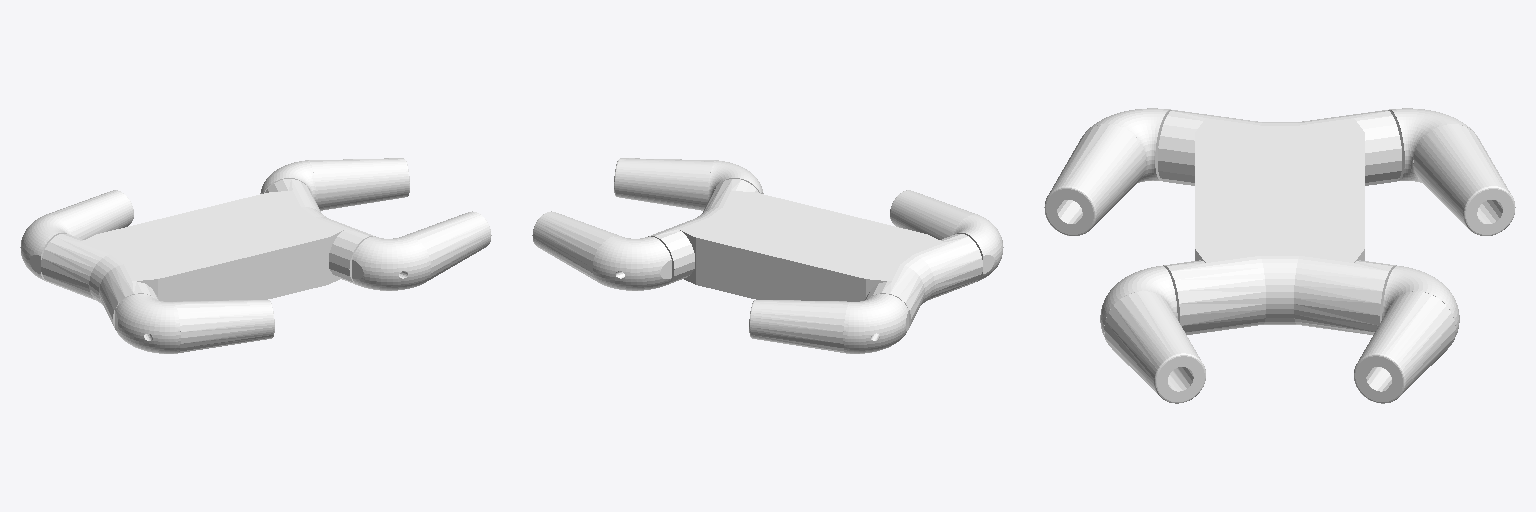
The robot description file, URDF, robot "18_degree":
<?xml version="1.0" encoding="utf-8"?>
<!-- This URDF was automatically created by SolidWorks to URDF Exporter! Originally created by [author] ([email redacted]) 
     Commit Version: 1.5.1-0-g916b5db  Build Version: 1.5.7152.31018
     For more information, please see http://wiki.ros.org/sw_urdf_exporter -->
<robot
  name="18_degree">
  <link
    name="base_link">
    <inertial>
      <origin
        xyz="0 4.0369E-08 -4.2712E-09"
        rpy="0 0 0" />
      <mass
        value="2.942" />
      <inertia
        ixx="0.0098730"
        ixy="-7.5263E-11"
        ixz="-1.5413E-10"
        iyy="0.0445906"
        iyz="7.6596E-20"
        izz="0.05202581" />
    </inertial>
    <visual>
      <origin
        xyz="0 0 0"
        rpy="0 0 0" />
      <geometry>
        <mesh
          filename="package://18_degree/meshes/base_link.STL" />
      </geometry>
      <material
        name="">
        <color
          rgba="1 1 1 1" />
      </material>
    </visual>
    <collision>
      <origin
        xyz="0 0 0"
        rpy="0 0 0" />
      <geometry>
        <mesh
          filename="package://18_degree/meshes/base_link.STL" />
      </geometry>
    </collision>
  </link>
  <link
    name="left_front_link">
    <inertial>
      <origin
        xyz="-1.0036E-07 0.056833 -0.03601"
        rpy="0 0 0" />
      <mass
        value="0.092" />
      <inertia
        ixx="0.0002604"
        ixy="7.2573E-10"
        ixz="7.3329E-10"
        iyy="0.0000526"
        iyz="2.27E-05"
        izz="0.0002575" />
    </inertial>
    <visual>
      <origin
        xyz="0 0 0"
        rpy="0 0 0" />
      <geometry>
        <mesh
          filename="package://18_degree/meshes/left_front_link.STL" />
      </geometry>
      <material
        name="">
        <color
          rgba="1 1 1 1" />
      </material>
    </visual>
    <collision>
      <origin
        xyz="0 0 0"
        rpy="0 0 0" />
      <geometry>
        <mesh
          filename="package://18_degree/meshes/left_front_link.STL" />
      </geometry>
    </collision>
  </link>
  <joint
    name="left_front_leg"
    type="continuous">
    <origin
      xyz="0.16183 0.097959 0"
      rpy="1.885 1.5708 0" />
    <parent
      link="base_link" />
    <child
      link="left_front_link" />
    <axis
      xyz="0 0 -1" />
    <limit
      effort="5"
      velocity="487" />
  </joint>
  <link
    name="right_front_link">
    <inertial>
      <origin
        xyz="1.0036E-07 0.056833 0.03601"
        rpy="0 0 0" />
      <mass
        value="0.092" />
      <inertia
        ixx="0.0002604"
        ixy="-7.2573E-10"
        ixz="7.3329E-10"
        iyy="0.0000526"
        iyz="-2.27E-05"
        izz="0.0002575" />
    </inertial>
    <visual>
      <origin
        xyz="0 0 0"
        rpy="0 0 0" />
      <geometry>
        <mesh
          filename="package://18_degree/meshes/right_front_link.STL" />
      </geometry>
      <material
        name="">
        <color
          rgba="1 1 1 1" />
      </material>
    </visual>
    <collision>
      <origin
        xyz="0 0 0"
        rpy="0 0 0" />
      <geometry>
        <mesh
          filename="package://18_degree/meshes/right_front_link.STL" />
      </geometry>
    </collision>
  </link>
  <joint
    name="right_front_leg"
    type="continuous">
    <origin
      xyz="0.16183 -0.097959 0"
      rpy="1.2566 1.5708 0" />
    <parent
      link="base_link" />
    <child
      link="right_front_link" />
    <axis
      xyz="0 0 1" />
    <limit
      effort="5"
      velocity="487" />
  </joint>
  <link
    name="right_back_link">
    <inertial>
      <origin
        xyz="7.08E-08 0.056834 0.03601"
        rpy="0 0 0" />
      <mass
        value="0.092" />
      <inertia
        ixx="0.0002604"
        ixy="-5.3496E-10"
        ixz="2.4137E-10"
        iyy="0.0000526"
        iyz="-2.27E-05"
        izz="0.0002575" />
    </inertial>
    <visual>
      <origin
        xyz="0 0 0"
        rpy="0 0 0" />
      <geometry>
        <mesh
          filename="package://18_degree/meshes/right_back_link.STL" />
      </geometry>
      <material
        name="">
        <color
          rgba="1 1 1 1" />
      </material>
    </visual>
    <collision>
      <origin
        xyz="0 0 0"
        rpy="0 0 0" />
      <geometry>
        <mesh
          filename="package://18_degree/meshes/right_back_link.STL" />
      </geometry>
    </collision>
  </link>
  <joint
    name="right_back_leg"
    type="continuous">
    <origin
      xyz="-0.16183 -0.097959 0"
      rpy="1.885 1.5708 0" />
    <parent
      link="base_link" />
    <child
      link="right_back_link" />
    <axis
      xyz="0 0 1" />
    <limit
      effort="5"
      velocity="487" />
  </joint>
  <link
    name="left_back_link">
    <inertial>
      <origin
        xyz="-7.08E-08 0.056834 -0.03601"
        rpy="0 0 0" />
      <mass
        value="0.092" />
      <inertia
        ixx="0.0002604"
        ixy="5.3496E-10"
        ixz="2.4137E-10"
        iyy="0.0000526"
        iyz="2.27E-05"
        izz="0.0002575" />
    </inertial>
    <visual>
      <origin
        xyz="0 0 0"
        rpy="0 0 0" />
      <geometry>
        <mesh
          filename="package://18_degree/meshes/left_back_link.STL" />
      </geometry>
      <material
        name="">
        <color
          rgba="1 1 1 1" />
      </material>
    </visual>
    <collision>
      <origin
        xyz="0 0 0"
        rpy="0 0 0" />
      <geometry>
        <mesh
          filename="package://18_degree/meshes/left_back_link.STL" />
      </geometry>
    </collision>
  </link>
  <joint
    name="left_back_leg"
    type="continuous">
    <origin
      xyz="-0.16183 0.097959 0"
      rpy="1.2566 1.5708 0" />
    <parent
      link="base_link" />
    <child
      link="left_back_link" />
    <axis
      xyz="0 0 -1" />
    <limit
      effort="5"
      velocity="487" />
  </joint>
</robot>

--- Facts derived from the render (not from the file) ---
The picture shows the robot from 3 angles, left to right: view 1: azimuth 30°, elevation 25°; view 2: azimuth 150°, elevation 25°; view 3: azimuth 270°, elevation 25°; orthographic projection.
Robot: 18_degree — 5 links, 4 joints (4 continuous); root link base_link; default pose: every joint at zero.
Visible links, largest first — view 1: base_link, right_back_link, right_front_link, left_front_link, left_back_link; view 2: base_link, left_back_link, left_front_link, right_front_link, right_back_link; view 3: base_link, right_back_link, left_back_link, left_front_link, right_front_link.
Link boxes in pixels (x1,y1,x2,y2): base_link: (41,179,375,327); right_back_link: (115,294,274,353); right_front_link: (352,211,491,290); left_front_link: (260,158,409,210); left_back_link: (20,190,133,281); base_link: (648,179,982,327); left_back_link: (749,294,908,353); left_front_link: (532,211,671,290); right_front_link: (614,158,763,210); right_back_link: (890,190,1003,281); base_link: (1158,110,1401,334); right_back_link: (1044,108,1171,235); left_back_link: (1388,108,1515,235); left_front_link: (1354,266,1459,403); right_front_link: (1100,266,1205,403).
Bounding box of the posed robot: 0.5278 × 0.4148 × 0.064 m (x, y, z).
Meshes: 5 distinct files referenced, 5 mesh visuals loaded (5 binary STL).